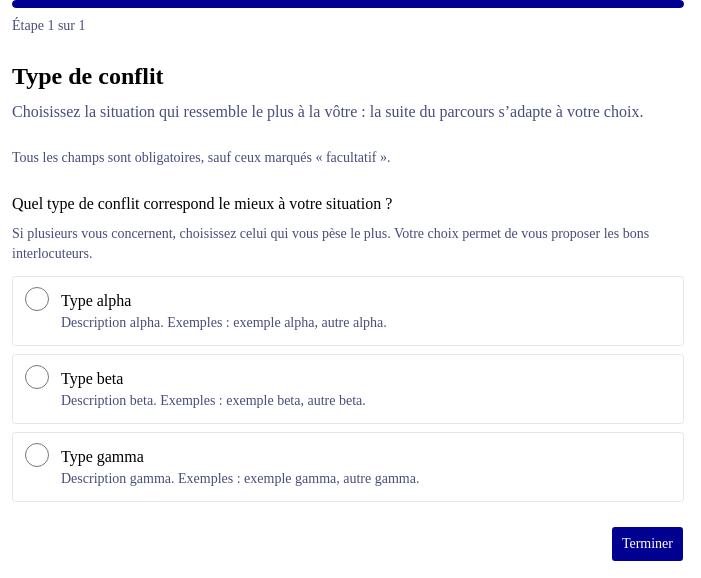
it: conflict type step › counts the follow-up step only for a conflict type that has questions
Click the radio button labelled "Type alpha".
click(37, 299)  # box [25,287,49,311]
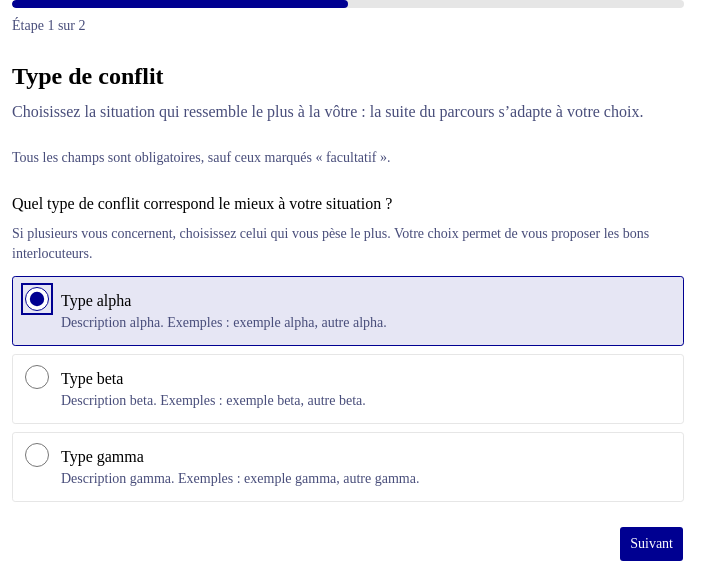
expect the text "Étape 1 sur 2" is shown: met, box [12,18,86,33]
Click the radio button labelled "Type beta".
click(37, 377)  # box [25,365,49,389]
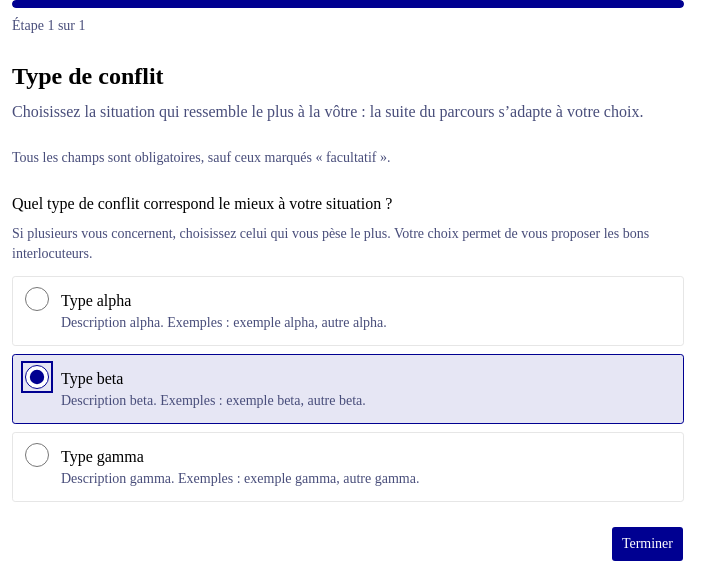
expect the text "Étape 1 sur 1" is shown: met, box [12,18,86,33]
